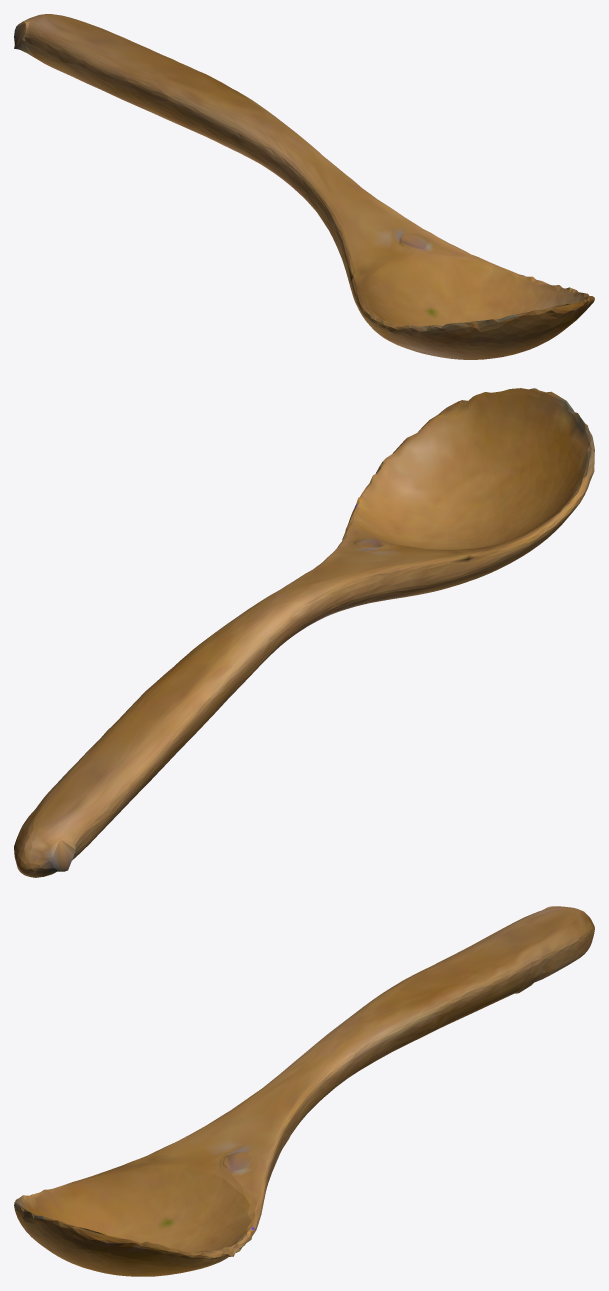
Rendered from scan.obj.
3 renders of one model, top to bottom at view 1: azimuth 30°, elevation 25°; view 2: azimuth 150°, elevation 25°; view 3: azimuth 330°, elevation 25°, orthographic. The views are drawn at different scales.
Parts seen in each view (by area): view 1: scan.ply; view 2: scan.ply; view 3: scan.ply.
Boxes of the visible parts, box(x1,y1,x2,y2) form: scan.ply: box(14, 14, 594, 359); scan.ply: box(14, 388, 594, 877); scan.ply: box(14, 906, 594, 1276).
Bounding box in the file's own units: 0.0414 × 0.0215 × 0.1935.
